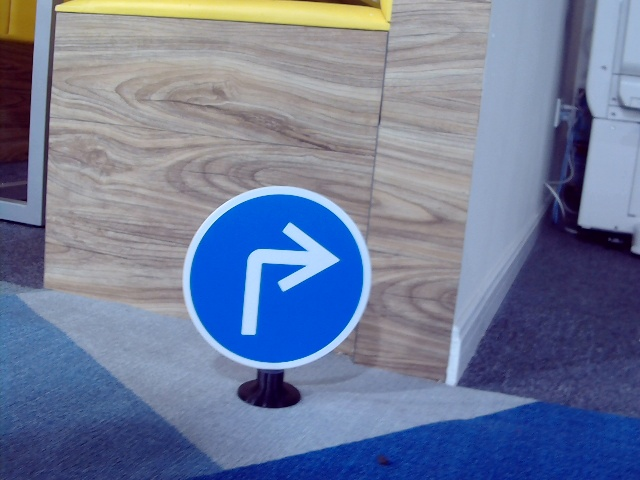turn_right: (236, 219, 332, 339)
